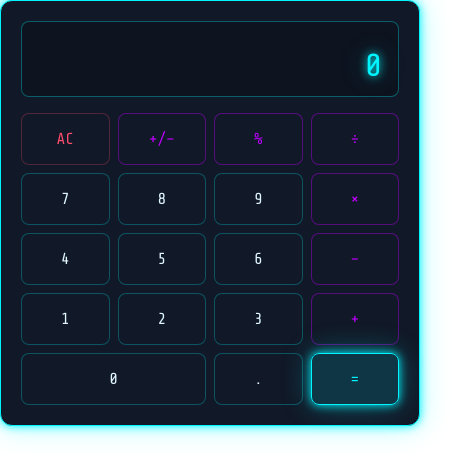
Test: Calculator — digit input › appends digits
This screenshot has width=454, height=460.
Step 1. Click the button "1" → (65, 319), box [21,293,110,345]
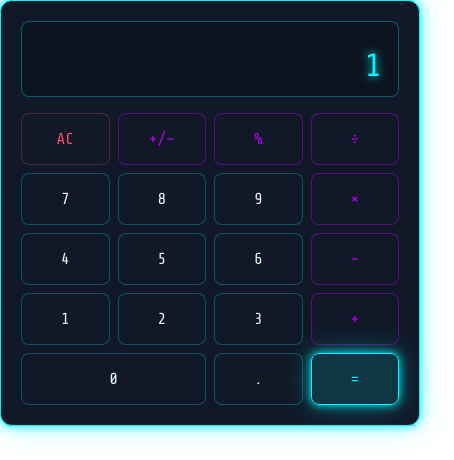
Step 2. Click the button "2" → (162, 319), box [118,293,206,345]
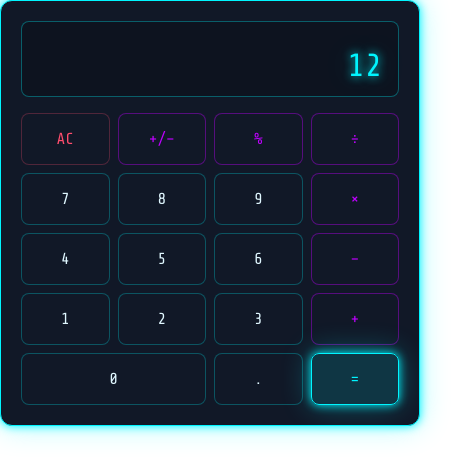
Step 3. Click the button "3" → (258, 319), box [214,293,302,345]
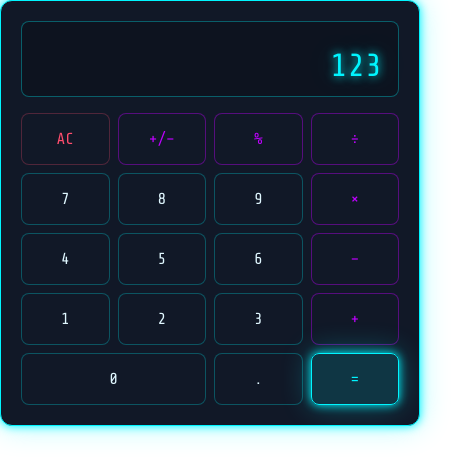
Now the text with class "display-value" reads "123", box [330,48,382,84]
